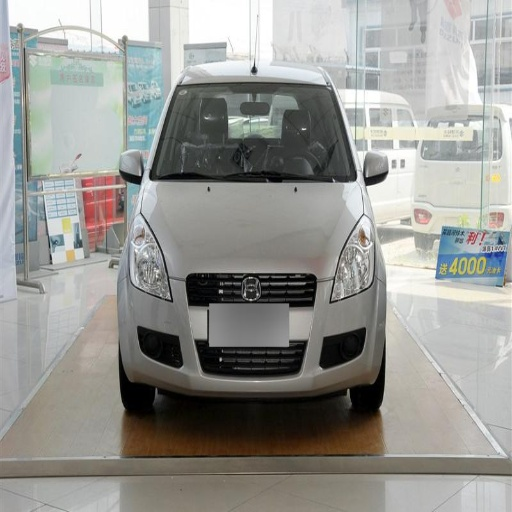front_bumper: (121, 276, 377, 398)
front_right_light: (129, 219, 171, 301)
hood: (142, 180, 363, 278)
